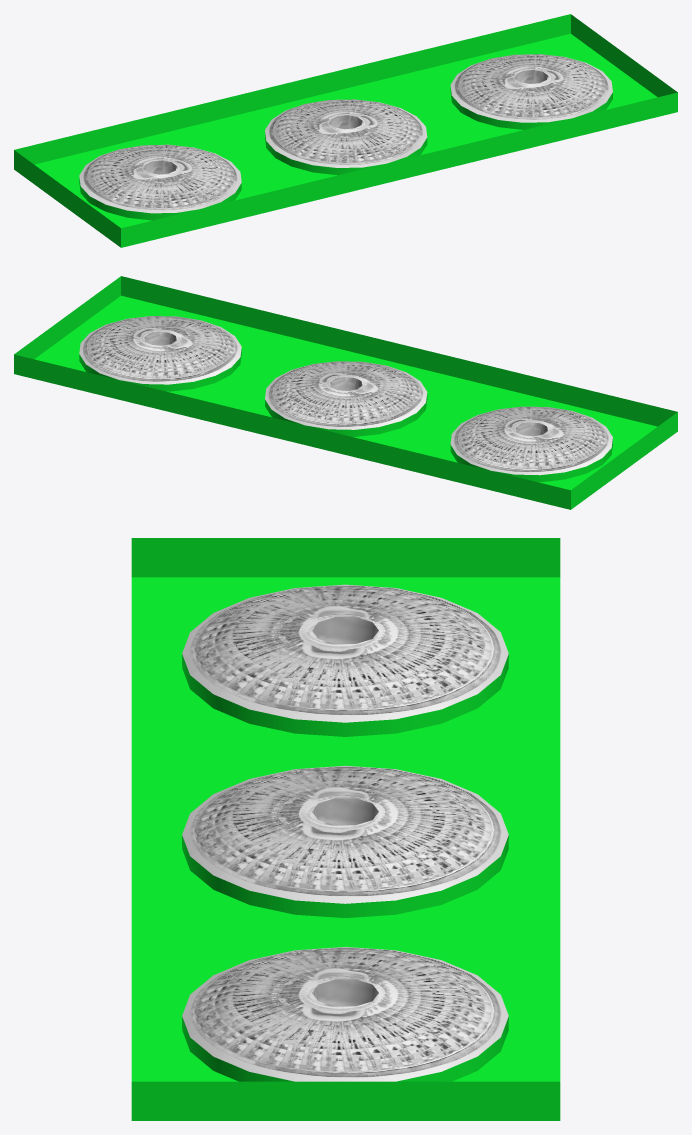
File: LightCeiling01_9.FBX
The picture shows the model from 3 angles, top to bottom: view 1: azimuth 30°, elevation 25°; view 2: azimuth 150°, elevation 25°; view 3: azimuth 270°, elevation 25°; orthographic projection. The views are drawn at different scales.
Parts seen in each view (by area): view 1: LightCeiling01_9; view 2: LightCeiling01_9; view 3: LightCeiling01_9.
Boxes of the visible parts, x1,y1,x2,y2 form: LightCeiling01_9: [14, 14, 677, 247]; LightCeiling01_9: [14, 276, 677, 509]; LightCeiling01_9: [131, 538, 560, 1120].
Size of the model in its own units: 45 by 1.52 by 15.
